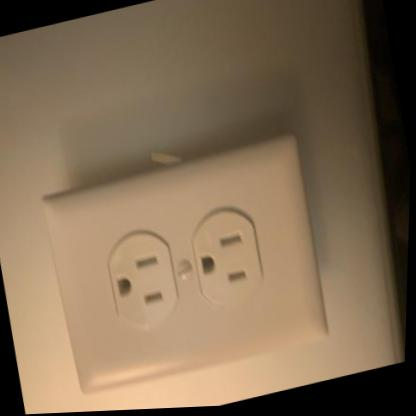OUTLET: (39, 133, 334, 400)
